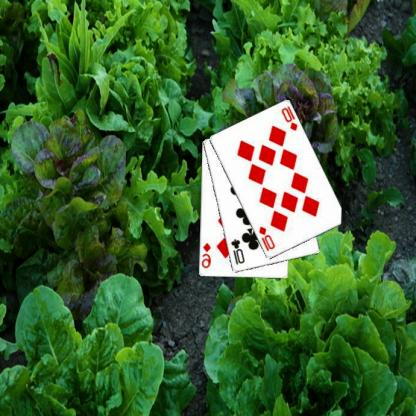10C: (230, 236, 247, 266)
10D: (280, 103, 300, 133), (258, 223, 278, 252)
9D: (202, 240, 214, 270)
